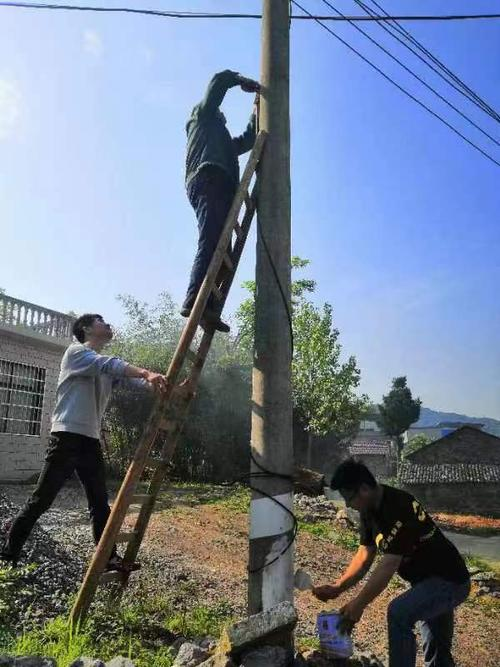安全帽、安全绳均未佩戴的工作人员: (180, 66, 262, 334)
安全帽、工作服均未穿戴的工作人员: (0, 311, 198, 572), (309, 453, 471, 666)
